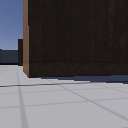obstacle: (23, 1, 128, 78), (18, 39, 23, 66)
